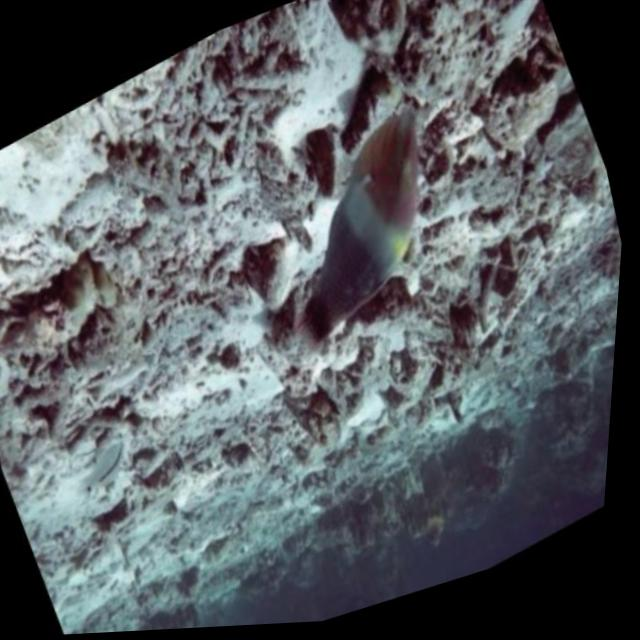Dead Coral: (56, 245, 626, 636), (36, 0, 382, 318), (0, 226, 197, 520)
